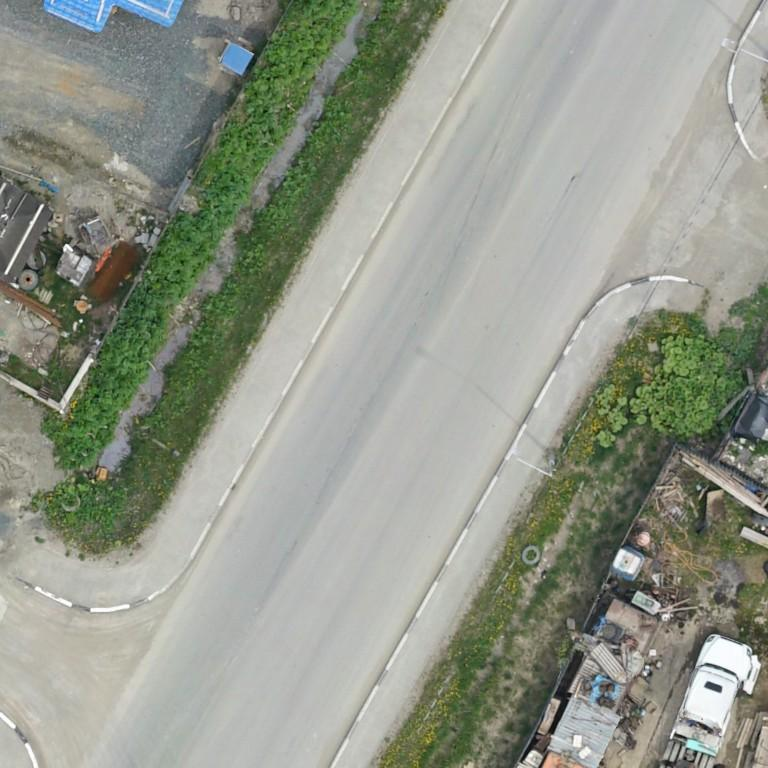hogweed: (49, 0, 356, 470)
